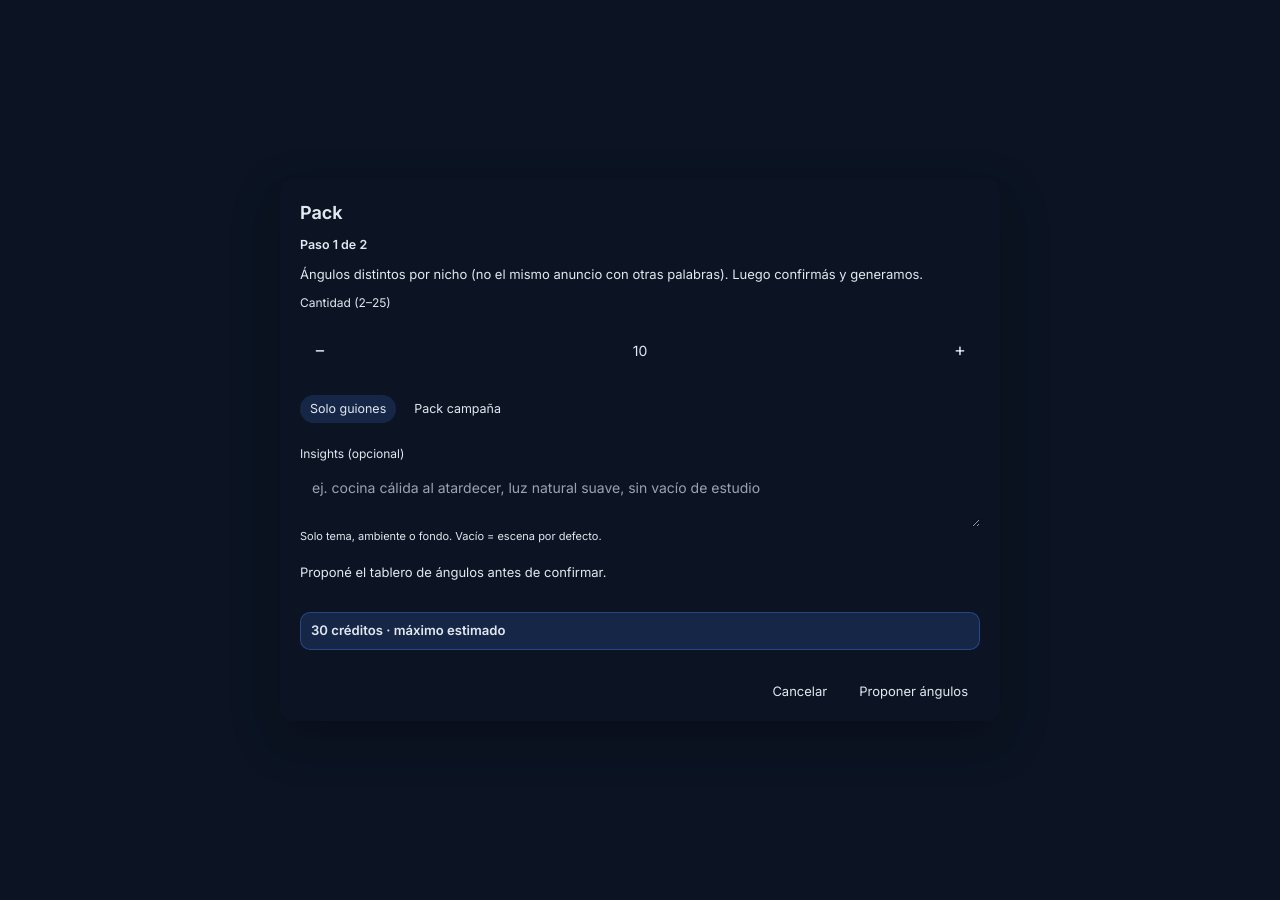
Test case: ChatShellBulkDialog Pack sheet › shows credits with Confirmar y generar on step 2 and footer Atrás · Cancelar · primary
Click the button "Proponer ángulos": click(914, 691) [847,674,980,709]
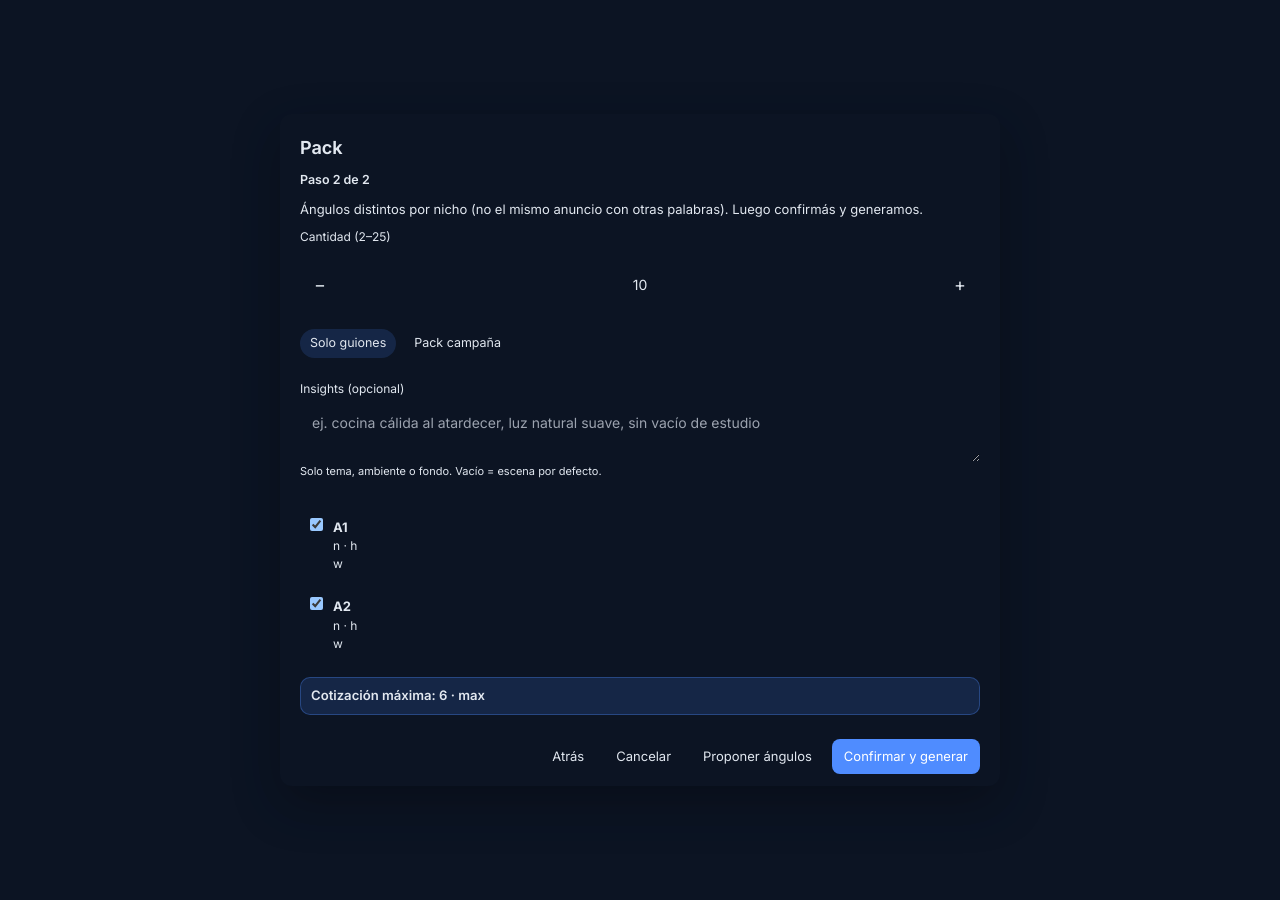
Check: the text "Paso 2 de 2" is shown, box [300,172,370,187]
Check: the text "Cotización máxima: 6 · max" is shown, box [300,677,980,715]
Check: the button "Confirmar y generar" is shown, box [832,739,980,774]
